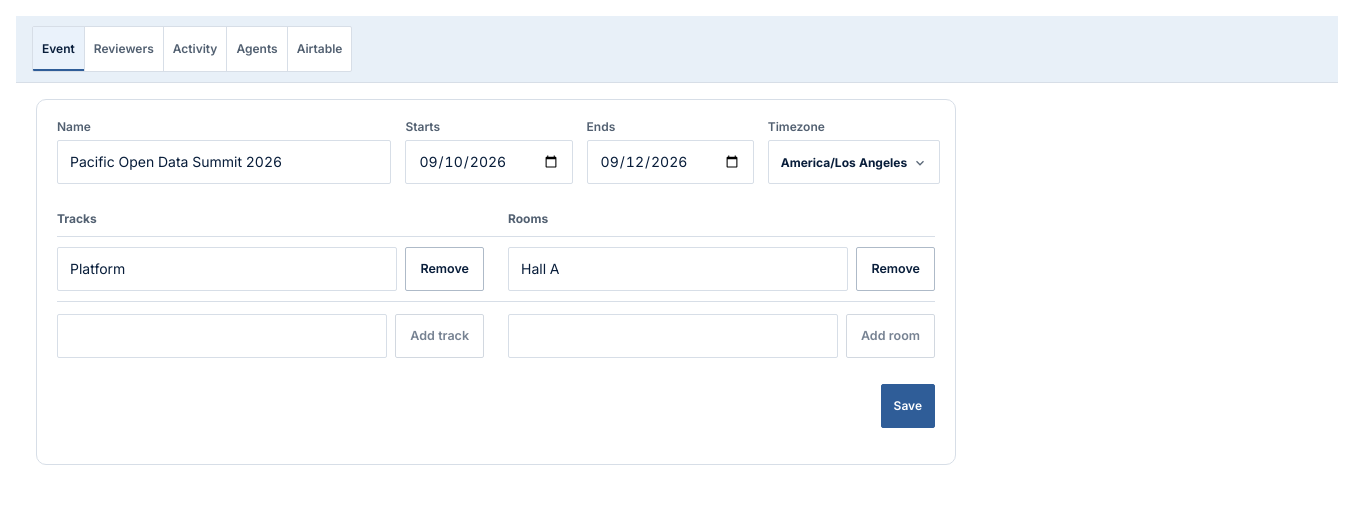
Scenario: Course Check 24 — activity by actor and onboarding attribution › shows team activity for a chosen member in Settings → Activity
Click the button "Activity": x=196, y=49 [164,27,228,71]
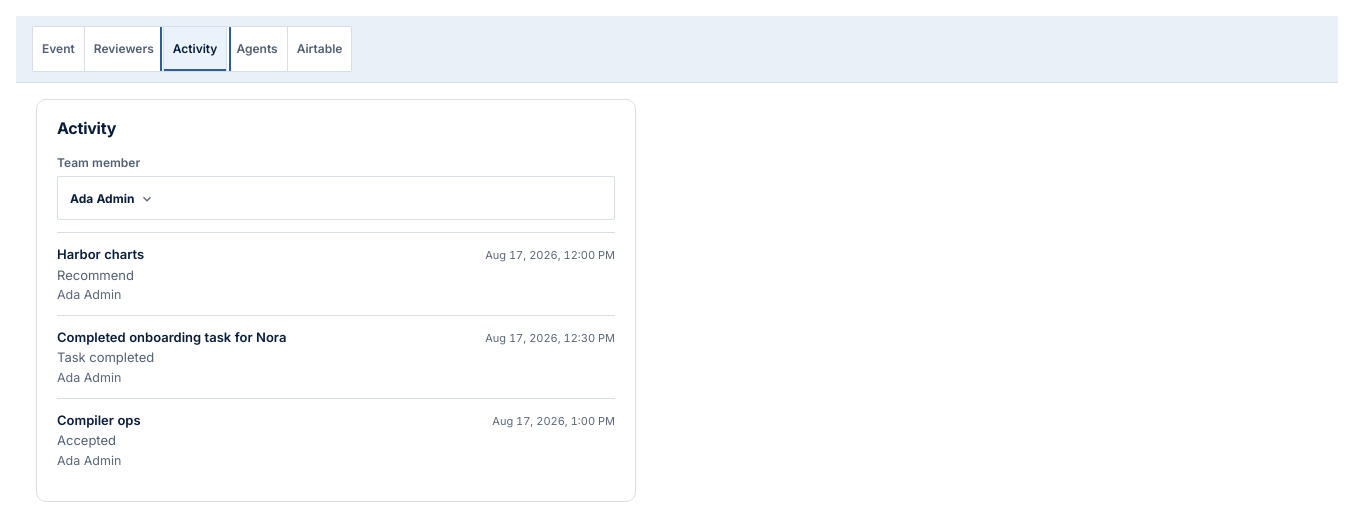
Now the heading "Activity" is shown, box [57,118,116,138]
Now the text "Recommend" is shown, box [57,267,134,283]
Now the text "Ada Admin" below "Team member" is shown, box [70,191,134,206]
Click the dropdown named "Team member": x=116, y=207 [57,176,615,220]
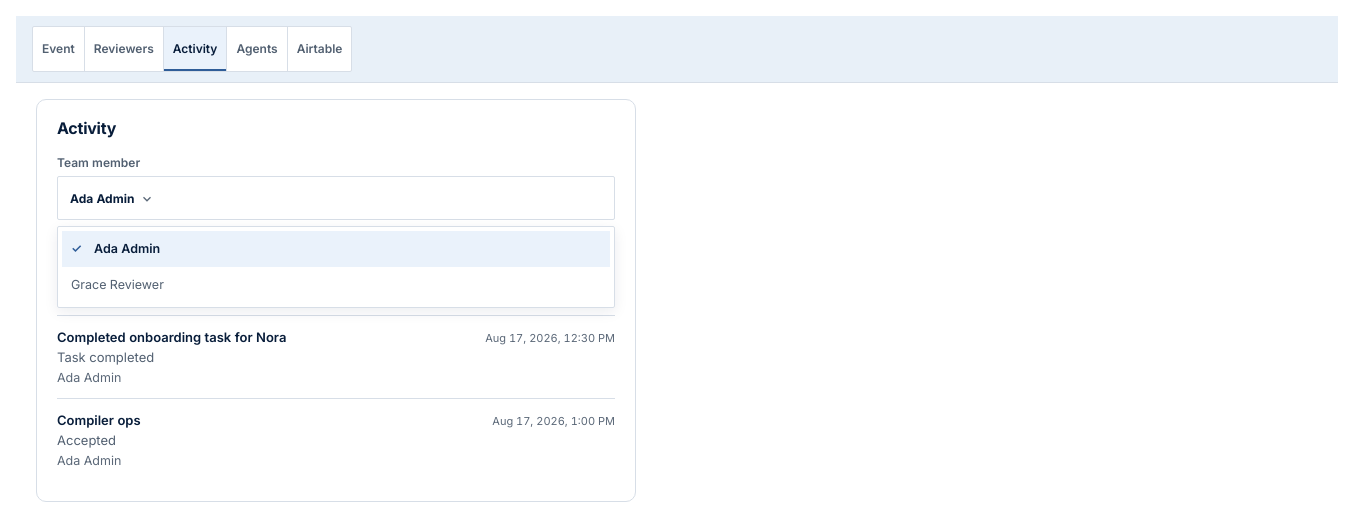
Click the option "Grace Reviewer": x=117, y=284 [71,277,164,292]
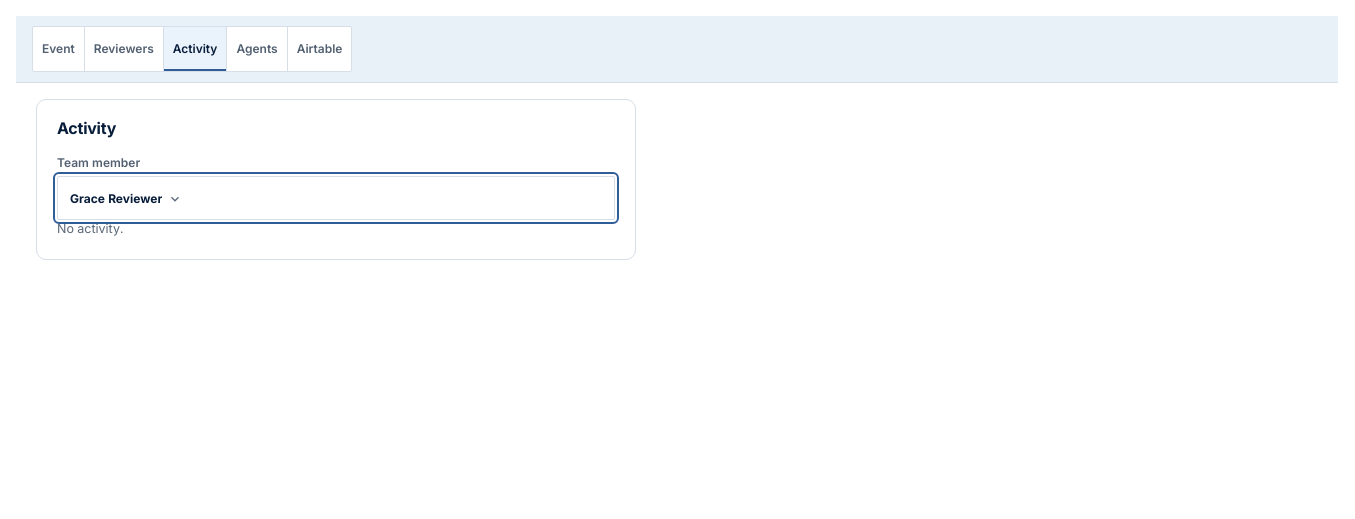
Now the message reads "No activity.", box [57,221,123,236]
